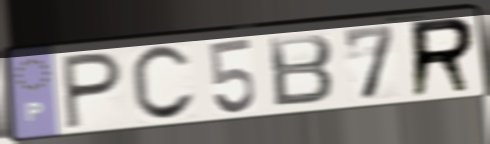5: (206, 36, 258, 116)
7: (341, 23, 398, 104)
B: (264, 32, 337, 110)
C: (128, 43, 199, 125)
P: (60, 50, 126, 133)
R: (407, 14, 478, 102)
